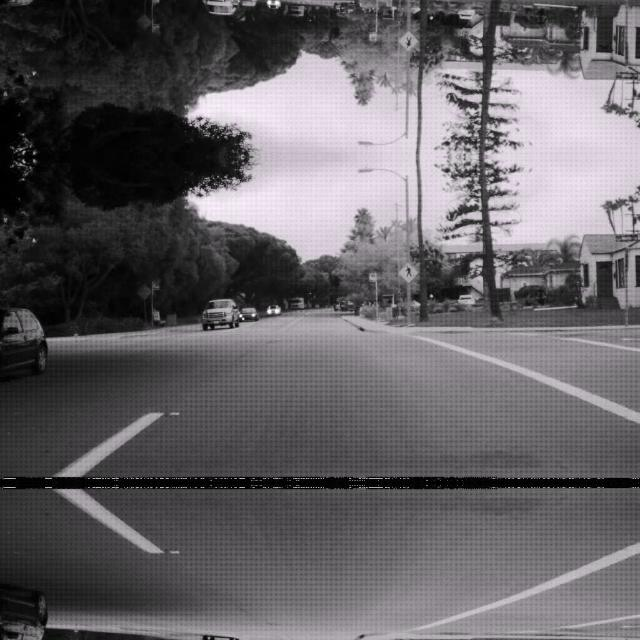pedestrianCrossing: (398, 260, 418, 282), (398, 30, 418, 51)
